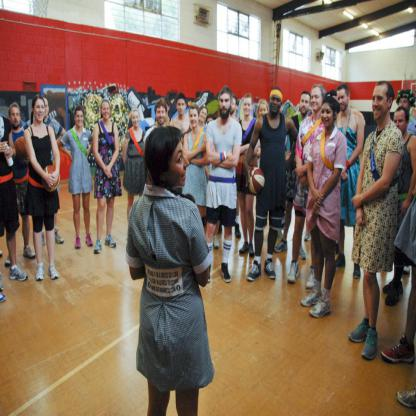face: (169, 143, 191, 188), (373, 85, 388, 121), (322, 103, 334, 129), (395, 111, 407, 136), (219, 94, 231, 118), (311, 88, 323, 112), (35, 99, 45, 124), (271, 94, 283, 114), (338, 91, 349, 112), (300, 94, 310, 115), (400, 97, 410, 117), (11, 108, 21, 128), (190, 108, 199, 129), (157, 108, 166, 126), (244, 98, 252, 117), (178, 100, 186, 117), (103, 104, 111, 120), (77, 111, 84, 128), (260, 104, 267, 121), (42, 101, 49, 118), (133, 113, 140, 129), (201, 108, 208, 123), (207, 118, 215, 131), (230, 98, 236, 115)
